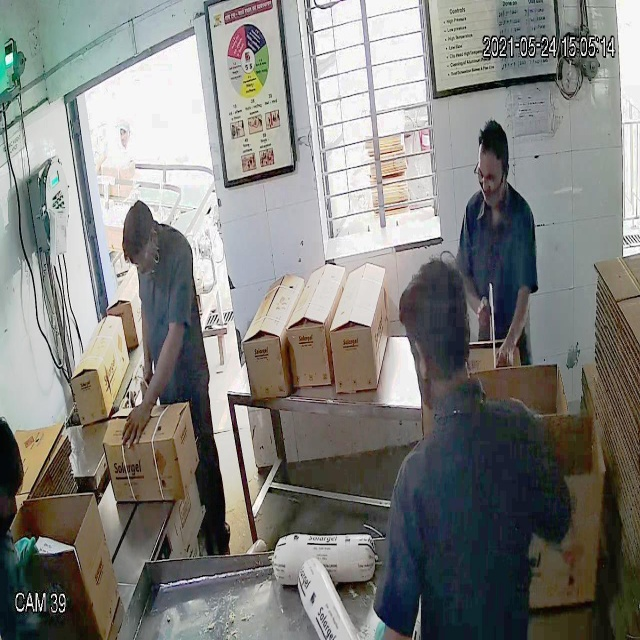Gafas: (473, 160, 505, 193)
